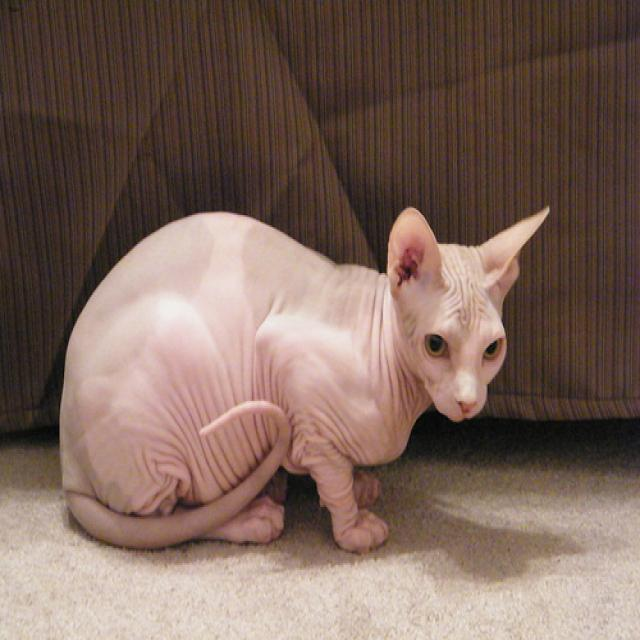Sphynx: (386, 205, 548, 420)
